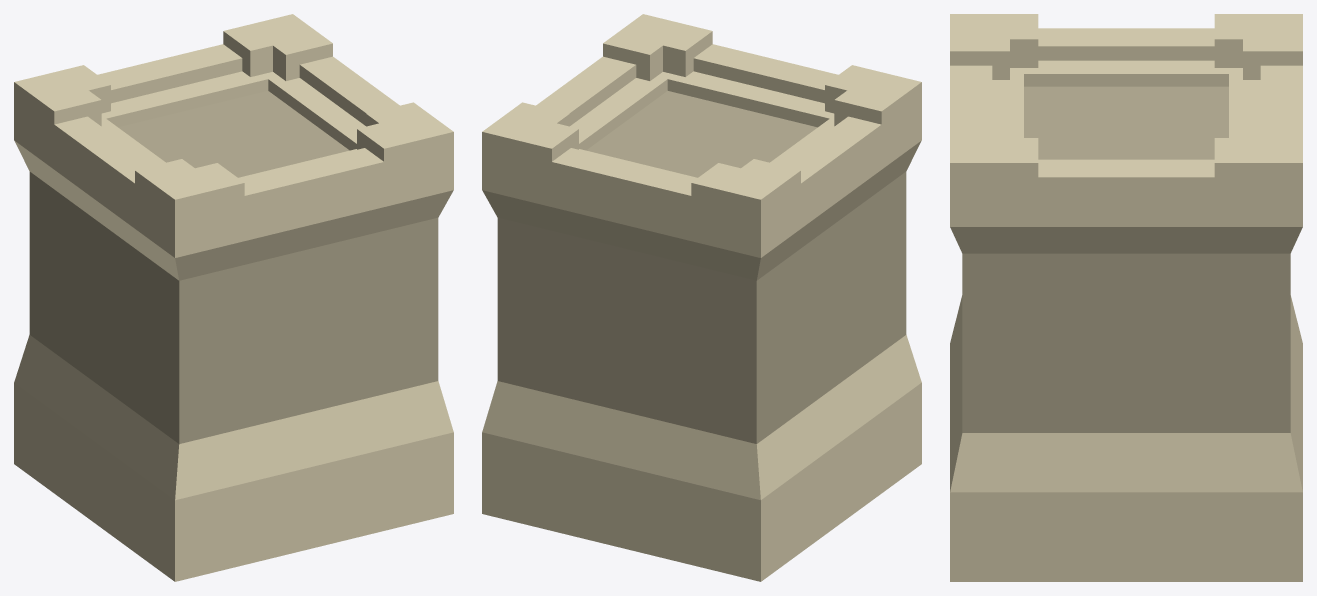
The model's file is towerSquare.obj.
The picture shows the model from 3 angles, left to right: view 1: azimuth 30°, elevation 25°; view 2: azimuth 150°, elevation 25°; view 3: azimuth 270°, elevation 25°; orthographic projection. The views are drawn at different scales.
Visible parts, largest first — view 1: towerSquare; view 2: towerSquare; view 3: towerSquare.
Boxes of the visible parts, bbox=[...] form: towerSquare: bbox=[14, 14, 453, 581]; towerSquare: bbox=[482, 14, 921, 581]; towerSquare: bbox=[950, 14, 1302, 581].
Bounding box in the file's own units: 10 × 13.1 × 10.
